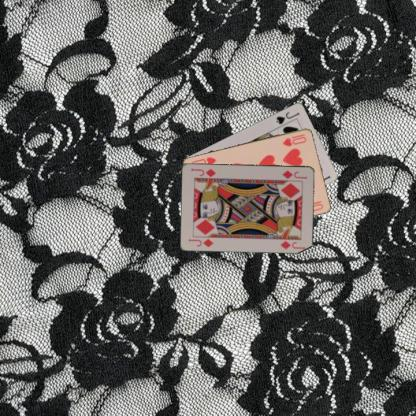10h: (280, 131, 308, 147)
Jd: (186, 236, 215, 248), (280, 168, 308, 180)
Js: (273, 110, 302, 126)
